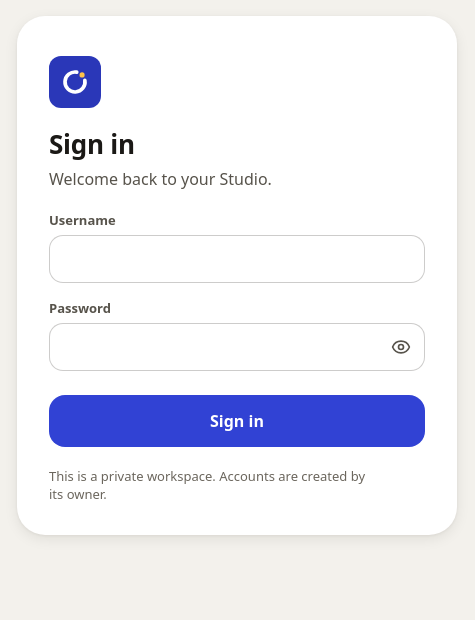
Test: the sign-in form › asks for both fields before sending anything
Click the button "Sign in" at [237, 421], box [49,395,425,447]
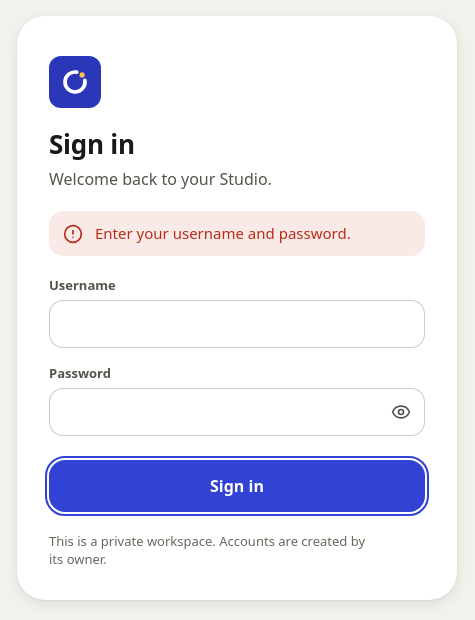
Expected: the message reads "Enter your username and password.", [95,223,351,243]
